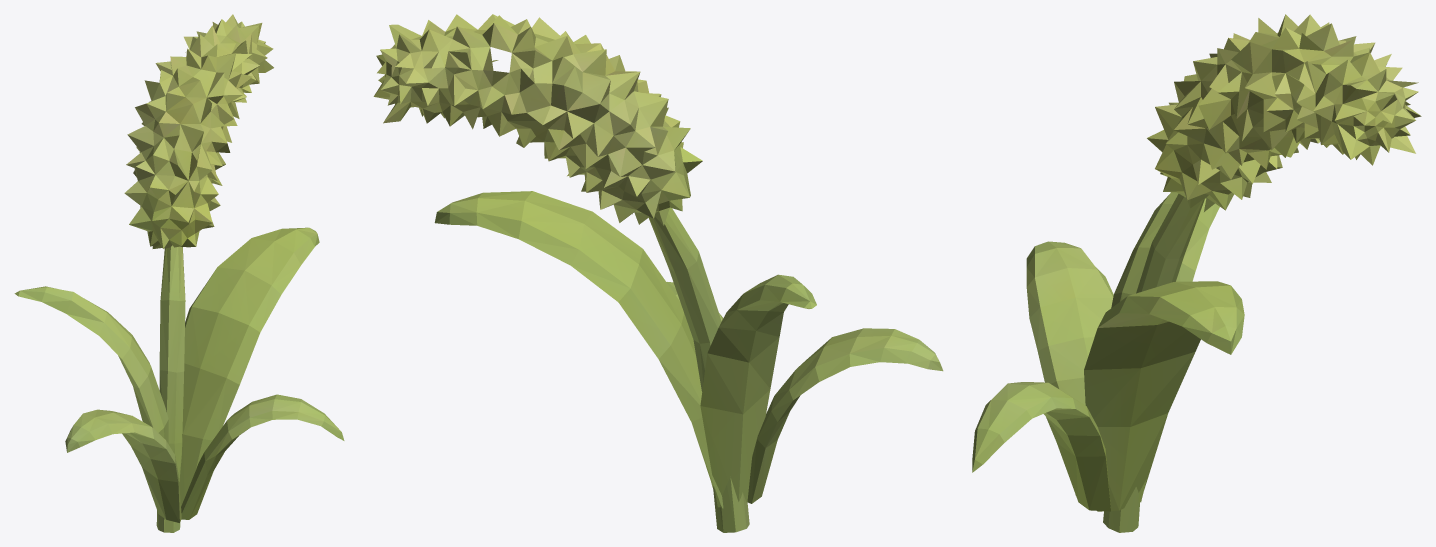
File: grass2.glb
3 views of the same model, side by side, from view 1: azimuth 30°, elevation 25°; view 2: azimuth 150°, elevation 25°; view 3: azimuth 270°, elevation 25° (orthographic). The views are drawn at different scales.
Parts seen in each view (by area): view 1: geometry_0; view 2: geometry_0; view 3: geometry_0.
Boxes of the visible parts, x1,y1,x2,y2 form: geometry_0: (14,14,344,532); geometry_0: (373,14,943,532); geometry_0: (972,14,1421,532).
Size of the model in its own units: 0.0918 by 0.1138 by 0.0806.
